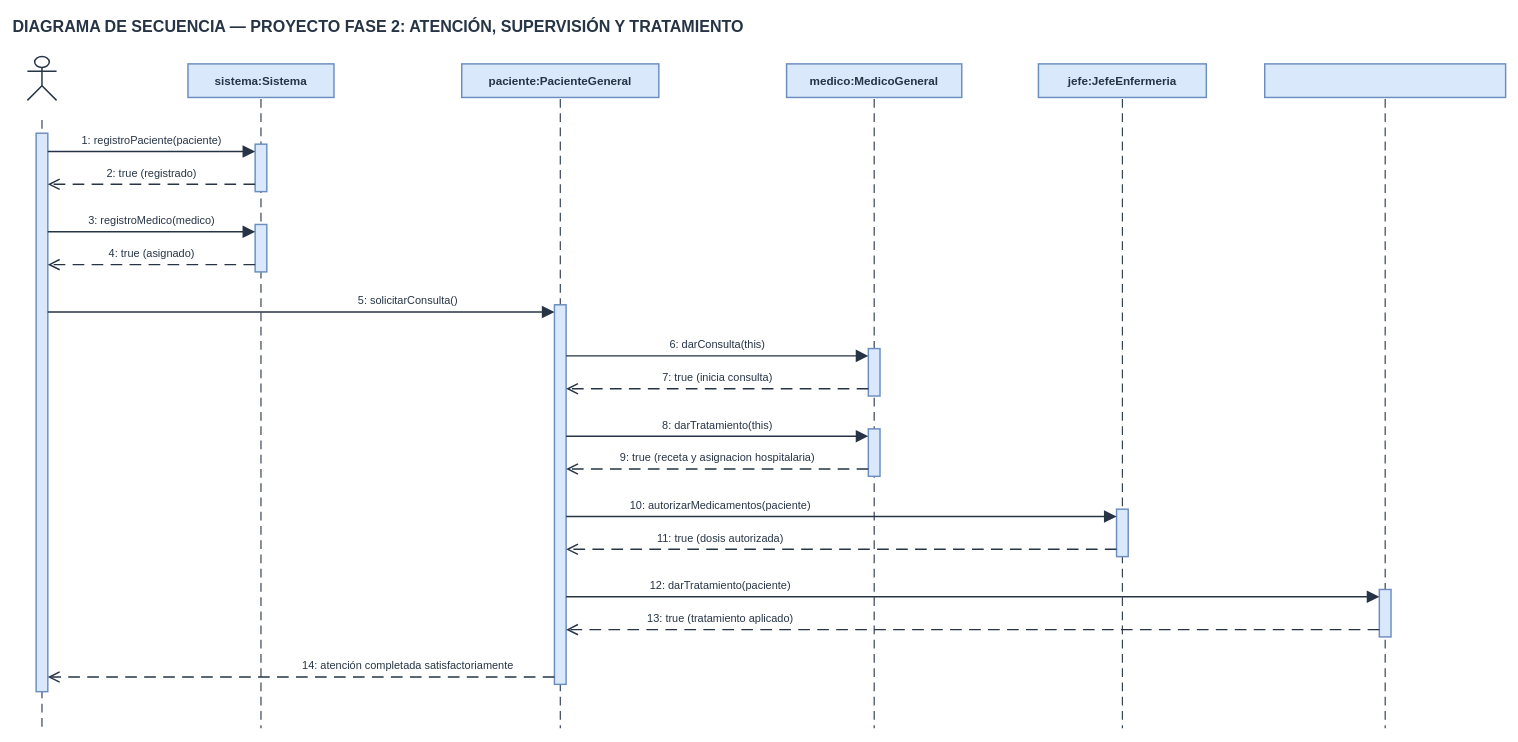
The diagram is 1518 pixels wide and 742 high, and some of its shapes have lost their labels. Here are the shapes that lost their labels. From the top down, the centre of each, then its label:
point (41, 78): Usuario
point (1385, 80): enfermero:EnfermeroEspecialista
